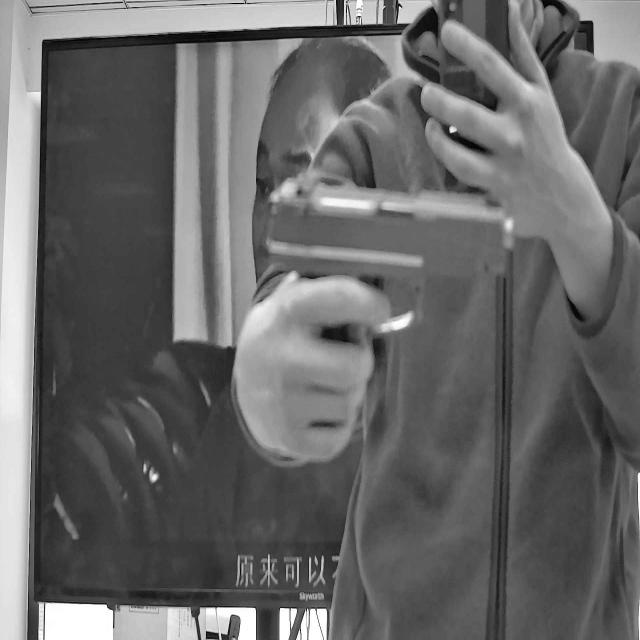Hand-Gun: (266, 159, 532, 366)
